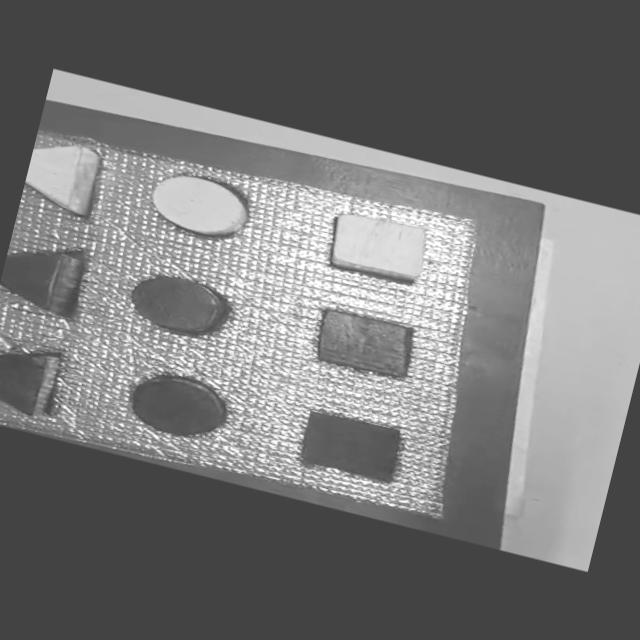bcircle: (121, 365, 232, 446)
btriangle: (0, 336, 61, 420)
mtcube: (293, 405, 406, 486)
rcube: (311, 305, 418, 382)
rtriangle: (123, 266, 230, 342), (0, 237, 88, 318)
wb: (0, 130, 483, 532)
ycircle: (143, 165, 257, 246)
ycube: (320, 204, 434, 290)
ytriangle: (20, 134, 100, 216)
